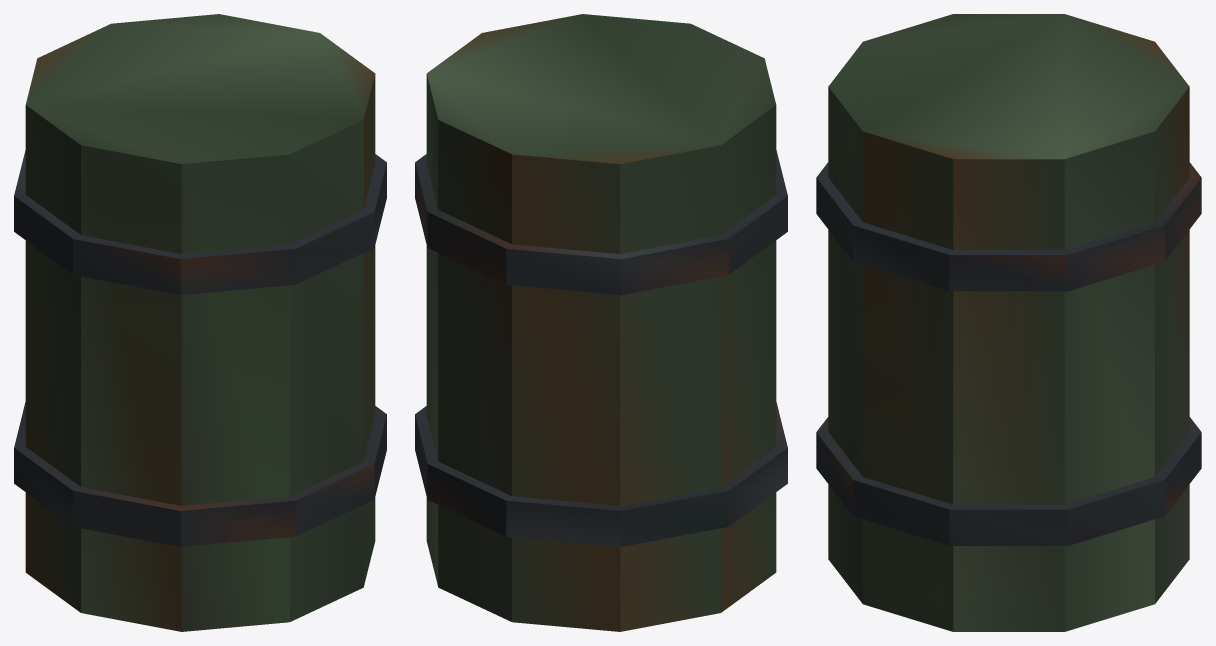
Rendered from barrel.glb.
The picture shows the model from 3 angles, left to right: view 1: azimuth 30°, elevation 25°; view 2: azimuth 150°, elevation 25°; view 3: azimuth 270°, elevation 25°; orthographic projection.
Parts seen in each view (by area): view 1: barrel; view 2: barrel; view 3: barrel.
Boxes of the visible parts, x1,y1,x2,y2 form: barrel: (14,14,386,631); barrel: (415,14,787,631); barrel: (816,14,1201,631).
Size of the model in its own units: 18.26 by 26 by 19.2.
